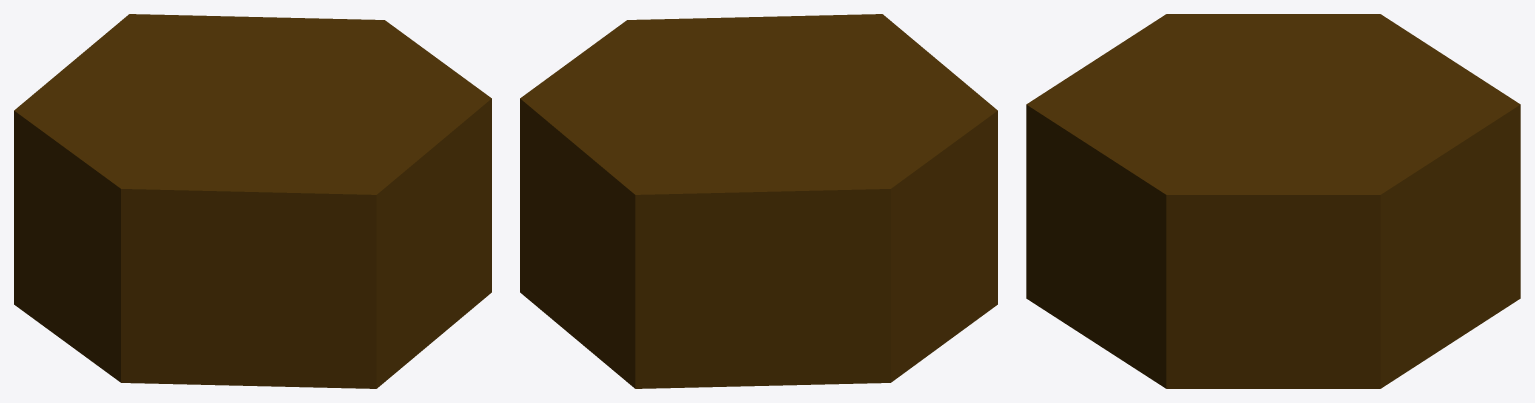
File: hexagon.fbx
The picture shows the model from 3 angles, left to right: view 1: azimuth 30°, elevation 25°; view 2: azimuth 150°, elevation 25°; view 3: azimuth 270°, elevation 25°; orthographic projection.
Visible parts, largest first — view 1: Hexagon; view 2: Hexagon; view 3: Hexagon.
Boxes of the visible parts, box(x1,y1,x2,y2) form: Hexagon: box(14, 14, 491, 388); Hexagon: box(520, 14, 997, 388); Hexagon: box(1026, 14, 1520, 388).
Bounding box in the file's own units: 200 × 100 × 231.
